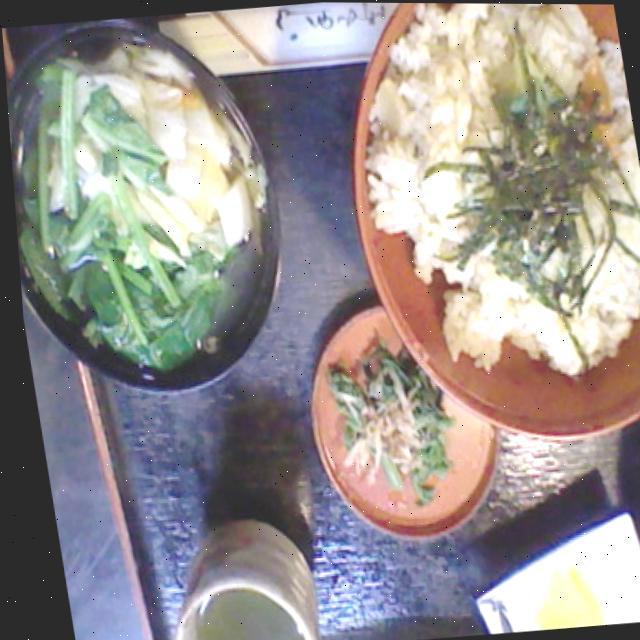蔬菜料理: (0, 6, 314, 431)
